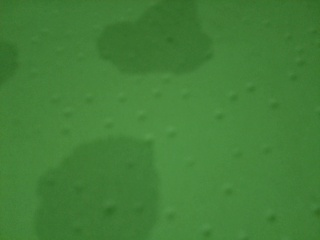Water_detected: (105, 139, 204, 240), (130, 0, 205, 50), (0, 57, 29, 100)
